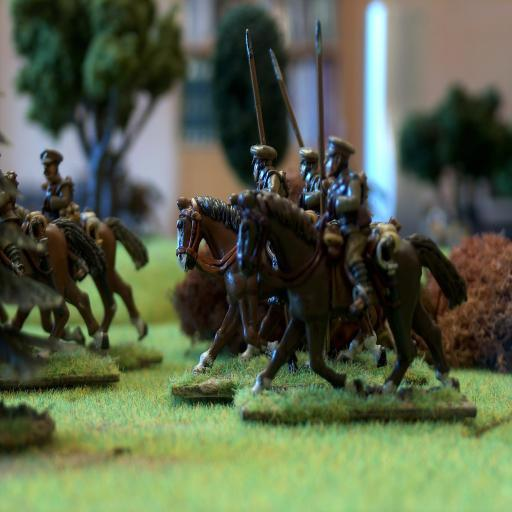Horse: (228, 189, 470, 394), (174, 196, 388, 376), (8, 218, 150, 343), (0, 224, 110, 350)
